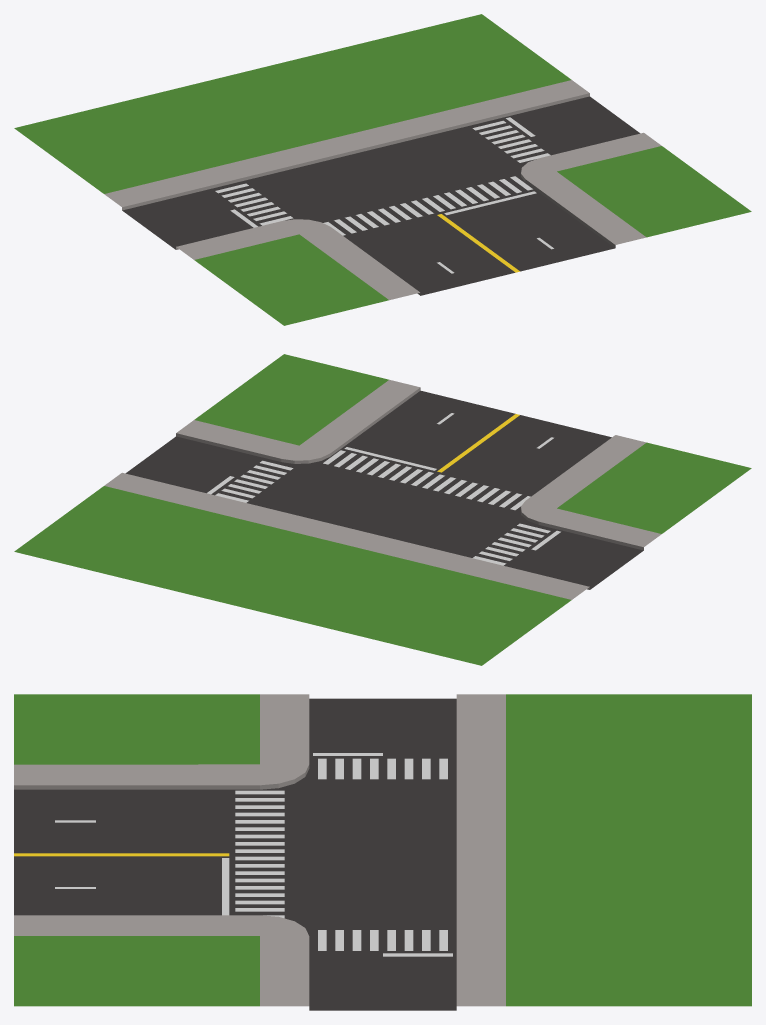
The model's file is tiles-nb_tile-mainroad-road-intersection-t-nb.fbx.
3 renders of one model, top to bottom at view 1: azimuth 30°, elevation 25°; view 2: azimuth 150°, elevation 25°; view 3: azimuth 270°, elevation 25°, orthographic. The views are drawn at different scales.
Visible parts, largest first — view 1: tiles_nb_tile_mainroad_road_intersection_t_nb; view 2: tiles_nb_tile_mainroad_road_intersection_t_nb; view 3: tiles_nb_tile_mainroad_road_intersection_t_nb.
Part boxes in pixels (left/top/right/bottom): tiles_nb_tile_mainroad_road_intersection_t_nb: left=14, top=14, right=751, bottom=325; tiles_nb_tile_mainroad_road_intersection_t_nb: left=14, top=354, right=751, bottom=665; tiles_nb_tile_mainroad_road_intersection_t_nb: left=14, top=694, right=751, bottom=1010.
Size of the model in its own units: 200 by 1.33 by 200.
